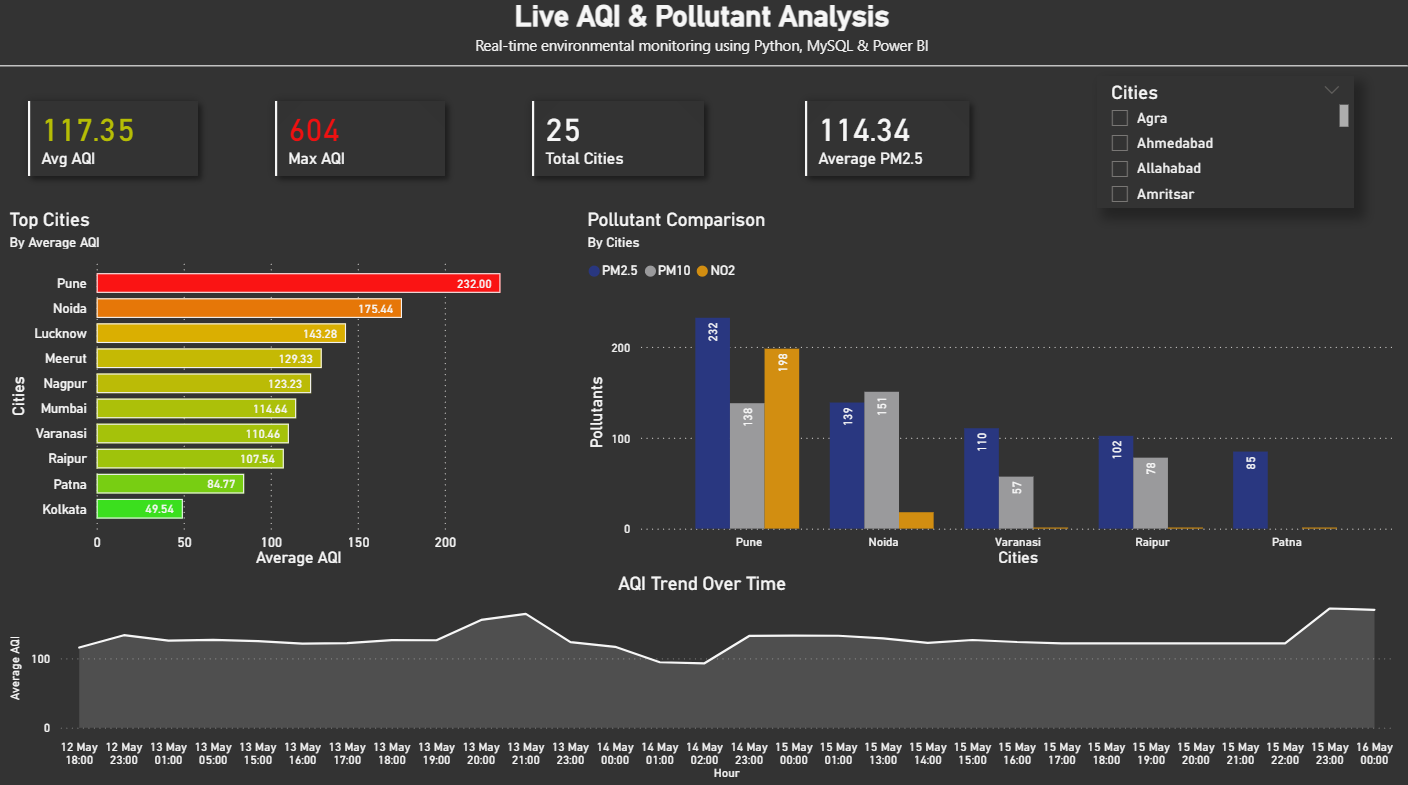

The page's visual inventory and layout, read from the dashboard file:
{"tool":"powerbi","page":{"name":"Monitoring Overview","canvas":[1280,720],"ordinal":0},"visuals":[{"type":"textbox","title":"Live AQI & Pollutant Analysis","box":[0,6.3,1280.4,64.4],"z":0},{"type":"cardVisual","fields":{"Data":["aqi_data.avg_aqi"]},"box":[0,70.7,212.2,126],"z":1000},{"type":"cardVisual","fields":{"Data":["aqi_data.total_cities"]},"box":[457,70.7,214,126],"z":2000},{"type":"cardVisual","fields":{"Data":["aqi_data.max_aqi"]},"box":[224,70.7,212.2,126],"z":3000},{"type":"clusteredBarChart","title":"Top Cities","fields":{"Category":["aqi_data.city"],"Y":["Avg(aqi_data.aqi)"]},"box":[7.3,196.8,465.2,330.1],"z":4000},{"type":"clusteredColumnChart","title":"Pollutant Comparison","fields":{"Category":["aqi_data.city"],"Y":["Avg(aqi_data.pm25)","Avg(aqi_data.pm10)","Avg(aqi_data.no2)"]},"box":[531.4,196.8,741.8,330.1],"z":5000},{"type":"cardVisual","fields":{"Data":["Avg(aqi_data.avg_pm2.5)"]},"box":[704.6,70.7,207.7,126],"z":6000},{"type":"lineChart","title":"AQI Trend Over Time","fields":{"Y":["aqi_data.avg_aqi"],"Category":["aqi_data.hour_label"]},"box":[7.3,526.9,1265.9,193.1],"z":7000},{"type":"slicer","fields":{"Values":["aqi_data.city"]},"box":[998.4,77.1,233,119.7],"z":8000}]}

Visuals, with their boxes in screenshot pixels (x1, y1, x2, y2), scaled from the page's 1280x720 canvas onto the 1408x785 screenshot:
"Live AQI & Pollutant Analysis" textbox: 0, 7, 1407, 77
cardVisual - aqi_data.avg_aqi: 0, 77, 233, 214
cardVisual - aqi_data.total_cities: 503, 77, 738, 214
cardVisual - aqi_data.max_aqi: 246, 77, 480, 214
"Top Cities" clusteredBarChart: 8, 215, 520, 574
"Pollutant Comparison" clusteredColumnChart: 585, 215, 1401, 574
cardVisual - Avg(aqi_data.avg_pm2.5): 775, 77, 1004, 214
"AQI Trend Over Time" lineChart: 8, 574, 1401, 784
slicer - aqi_data.city: 1098, 84, 1355, 215
